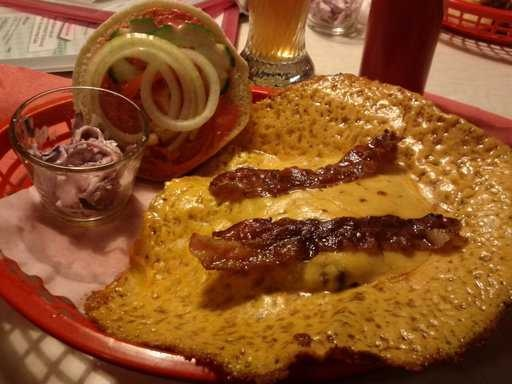hamburger: (71, 14, 246, 150)
